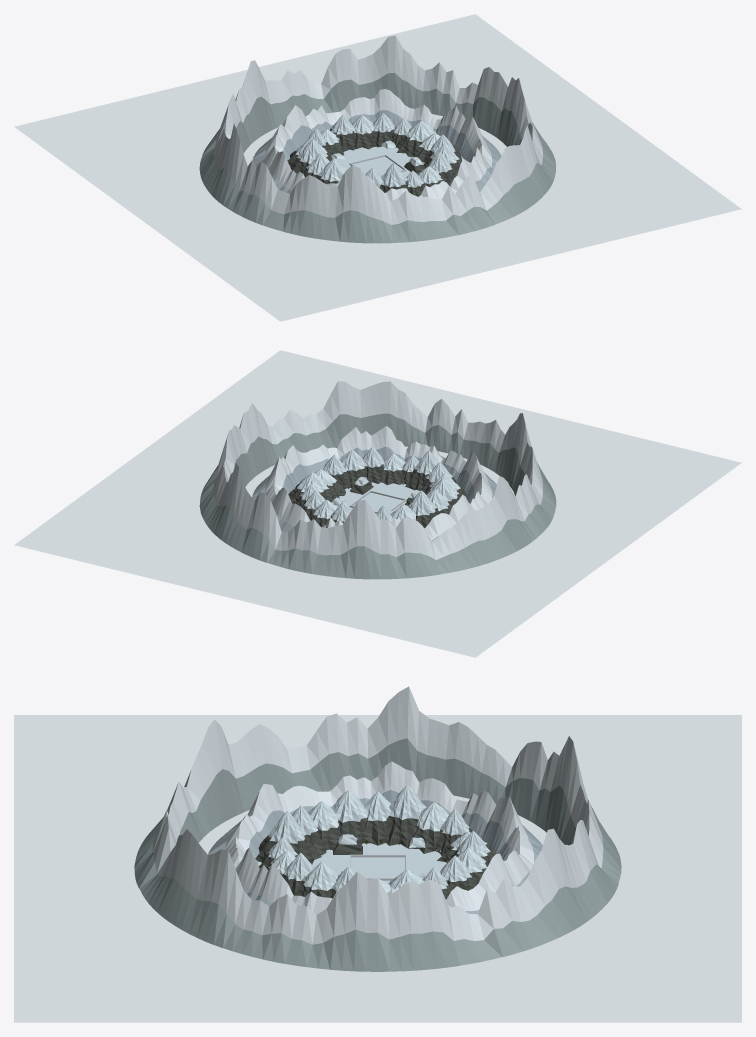
The model's file is defense_4_v2.glb.
3 views of the same model, one above another, from view 1: azimuth 30°, elevation 25°; view 2: azimuth 150°, elevation 25°; view 3: azimuth 270°, elevation 25° (orthographic). The views are drawn at different scales.
Parts seen in each view (by area): view 1: DISTANT_ground, DISTANT_snow, DISTANT_far, granular_snow, weathered_granite, DISTANT_rock, PLAZA_FLAT; view 2: DISTANT_ground, DISTANT_snow, DISTANT_far, granular_snow, weathered_granite, DISTANT_rock, PLAZA_FLAT; view 3: DISTANT_ground, DISTANT_snow, DISTANT_far, granular_snow, weathered_granite, PLAZA_FLAT, DISTANT_rock.
Part boxes in pixels (x1,y1,x2,y2): DISTANT_ground: (14,14,741,321); DISTANT_snow: (213,35,542,224); DISTANT_far: (199,72,555,243); granular_snow: (295,113,459,187); weathered_granite: (287,126,461,196); DISTANT_rock: (252,110,501,193); PLAZA_FLAT: (255,146,463,176); DISTANT_ground: (14,350,741,657); DISTANT_snow: (213,381,542,559); DISTANT_far: (199,413,556,579); granular_snow: (297,447,460,521); weathered_granite: (288,464,468,528); DISTANT_rock: (252,446,496,541); PLAZA_FLAT: (334,482,414,514); DISTANT_ground: (14,715,741,1022); DISTANT_snow: (152,686,603,944); DISTANT_far: (134,738,621,971); granular_snow: (268,785,490,892); weathered_granite: (255,816,497,899); PLAZA_FLAT: (258,843,446,883); DISTANT_rock: (208,790,542,914).
Size of the model in its own units: 1260 by 183 by 1260.
12 materials, 5 textured.
